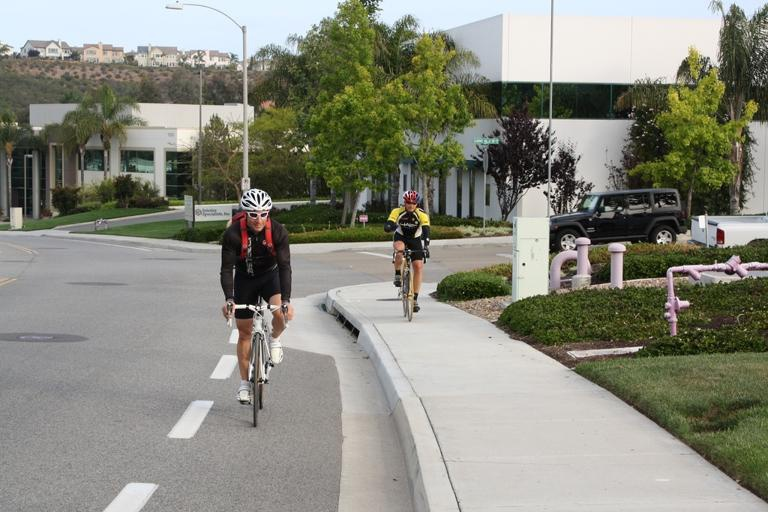non-vehicle: (225, 300, 287, 427), (391, 248, 428, 322)
